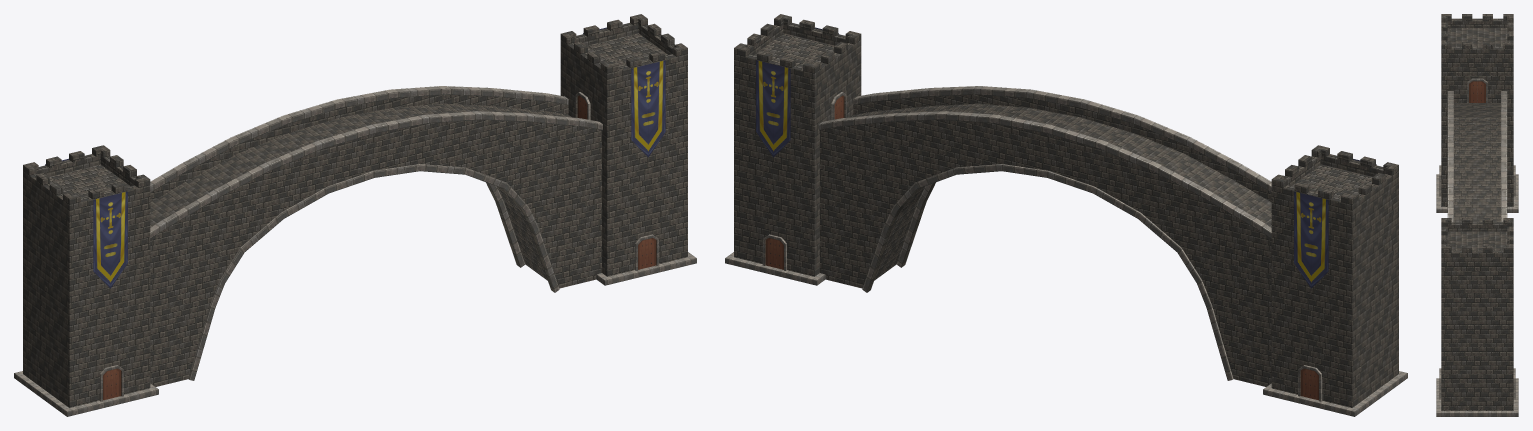
The model's file is OutdoorM_Gate.FBX.
3 renders of one model, left to right at view 1: azimuth 30°, elevation 25°; view 2: azimuth 150°, elevation 25°; view 3: azimuth 270°, elevation 25°, orthographic. The views are drawn at different scales.
Visible parts, largest first — view 1: OutdoorM_Gate; view 2: OutdoorM_Gate; view 3: OutdoorM_Gate.
Boxes of the visible parts, bbox=[...] form: OutdoorM_Gate: bbox=[14, 14, 696, 416]; OutdoorM_Gate: bbox=[725, 14, 1407, 416]; OutdoorM_Gate: bbox=[1436, 14, 1518, 416].
Size of the model in its own units: 482 by 158 by 70.35.
